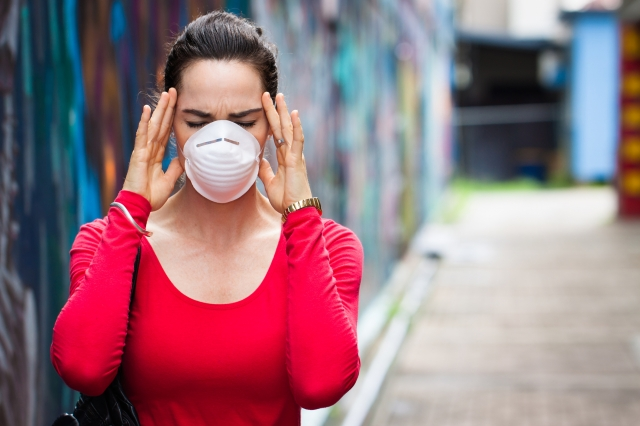mask: (182, 122, 262, 204)
